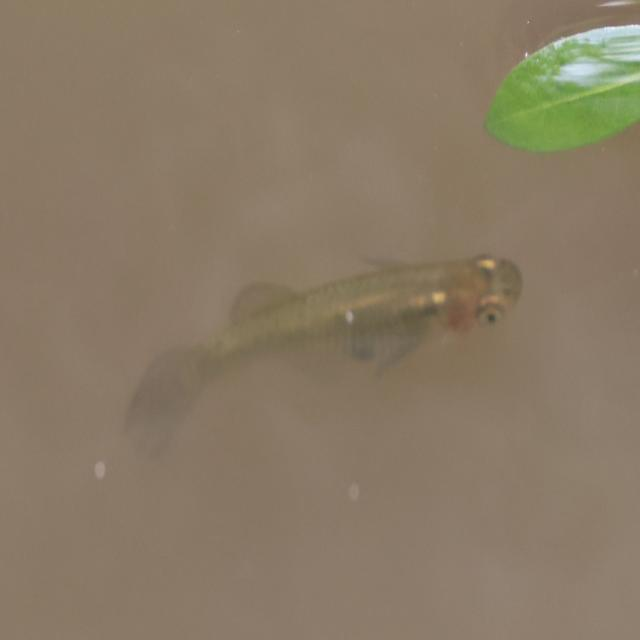Sivrisinek Baligi: (116, 235, 522, 434)
